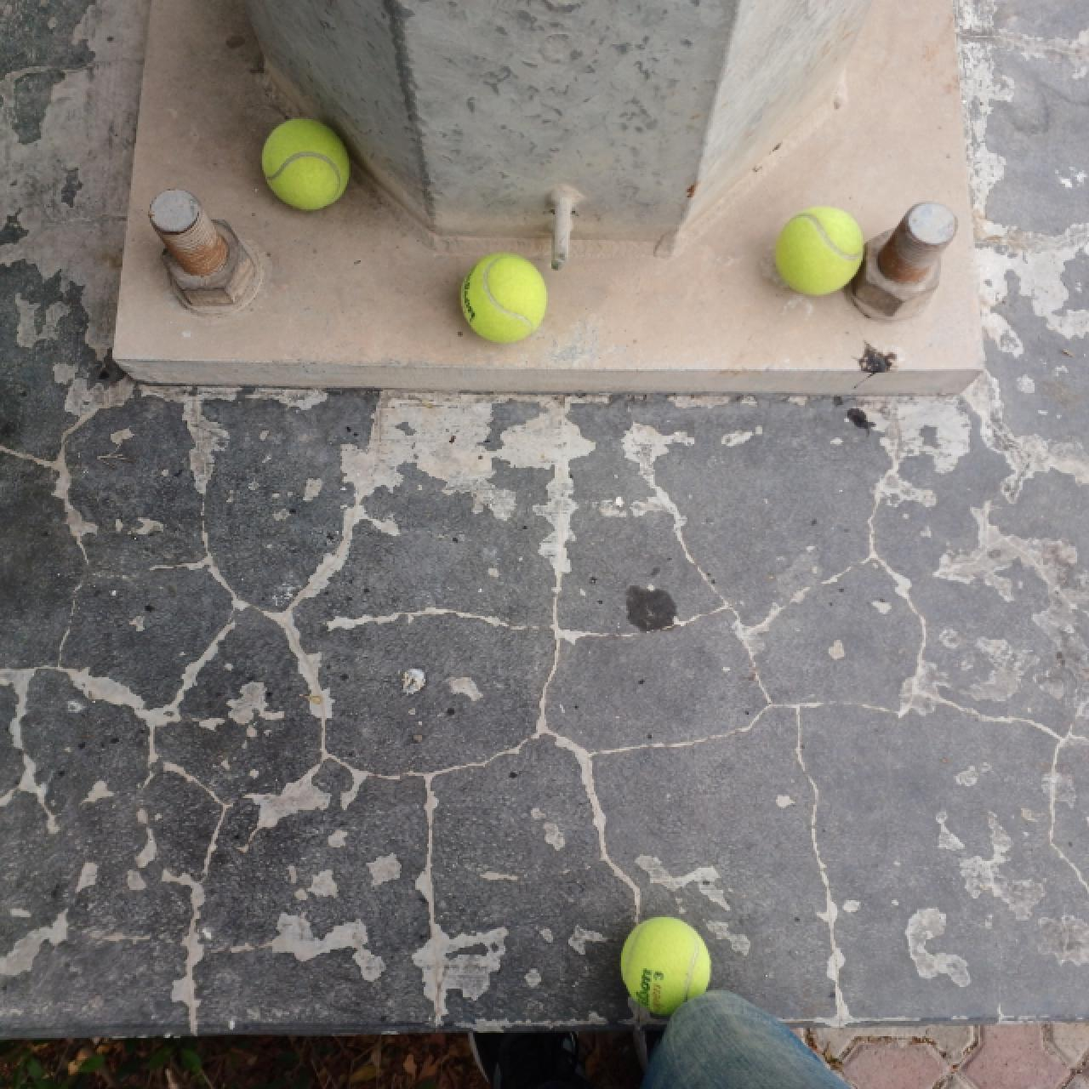tennis-ball: (260, 114, 353, 215), (770, 202, 868, 297), (619, 914, 713, 1013), (458, 249, 549, 343)
